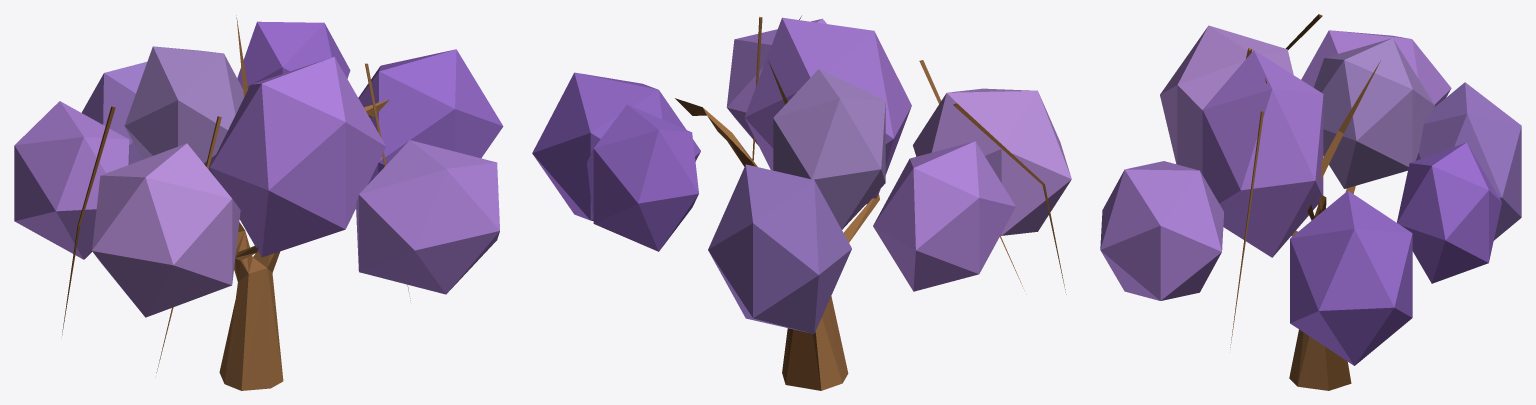
The model's file is wisteria_bloom_far.glb.
The picture shows the model from 3 angles, left to right: view 1: azimuth 30°, elevation 25°; view 2: azimuth 150°, elevation 25°; view 3: azimuth 270°, elevation 25°; orthographic projection. The views are drawn at different scales.
Parts seen in each view (by area): view 1: wisteria_bloom_far; view 2: wisteria_bloom_far; view 3: wisteria_bloom_far.
Boxes of the visible parts, x1,y1,x2,y2 form: wisteria_bloom_far: [14, 15, 503, 390]; wisteria_bloom_far: [532, 16, 1071, 390]; wisteria_bloom_far: [1100, 14, 1521, 390].
Bounding box in the file's own units: 8.62 × 5.88 × 6.87.
